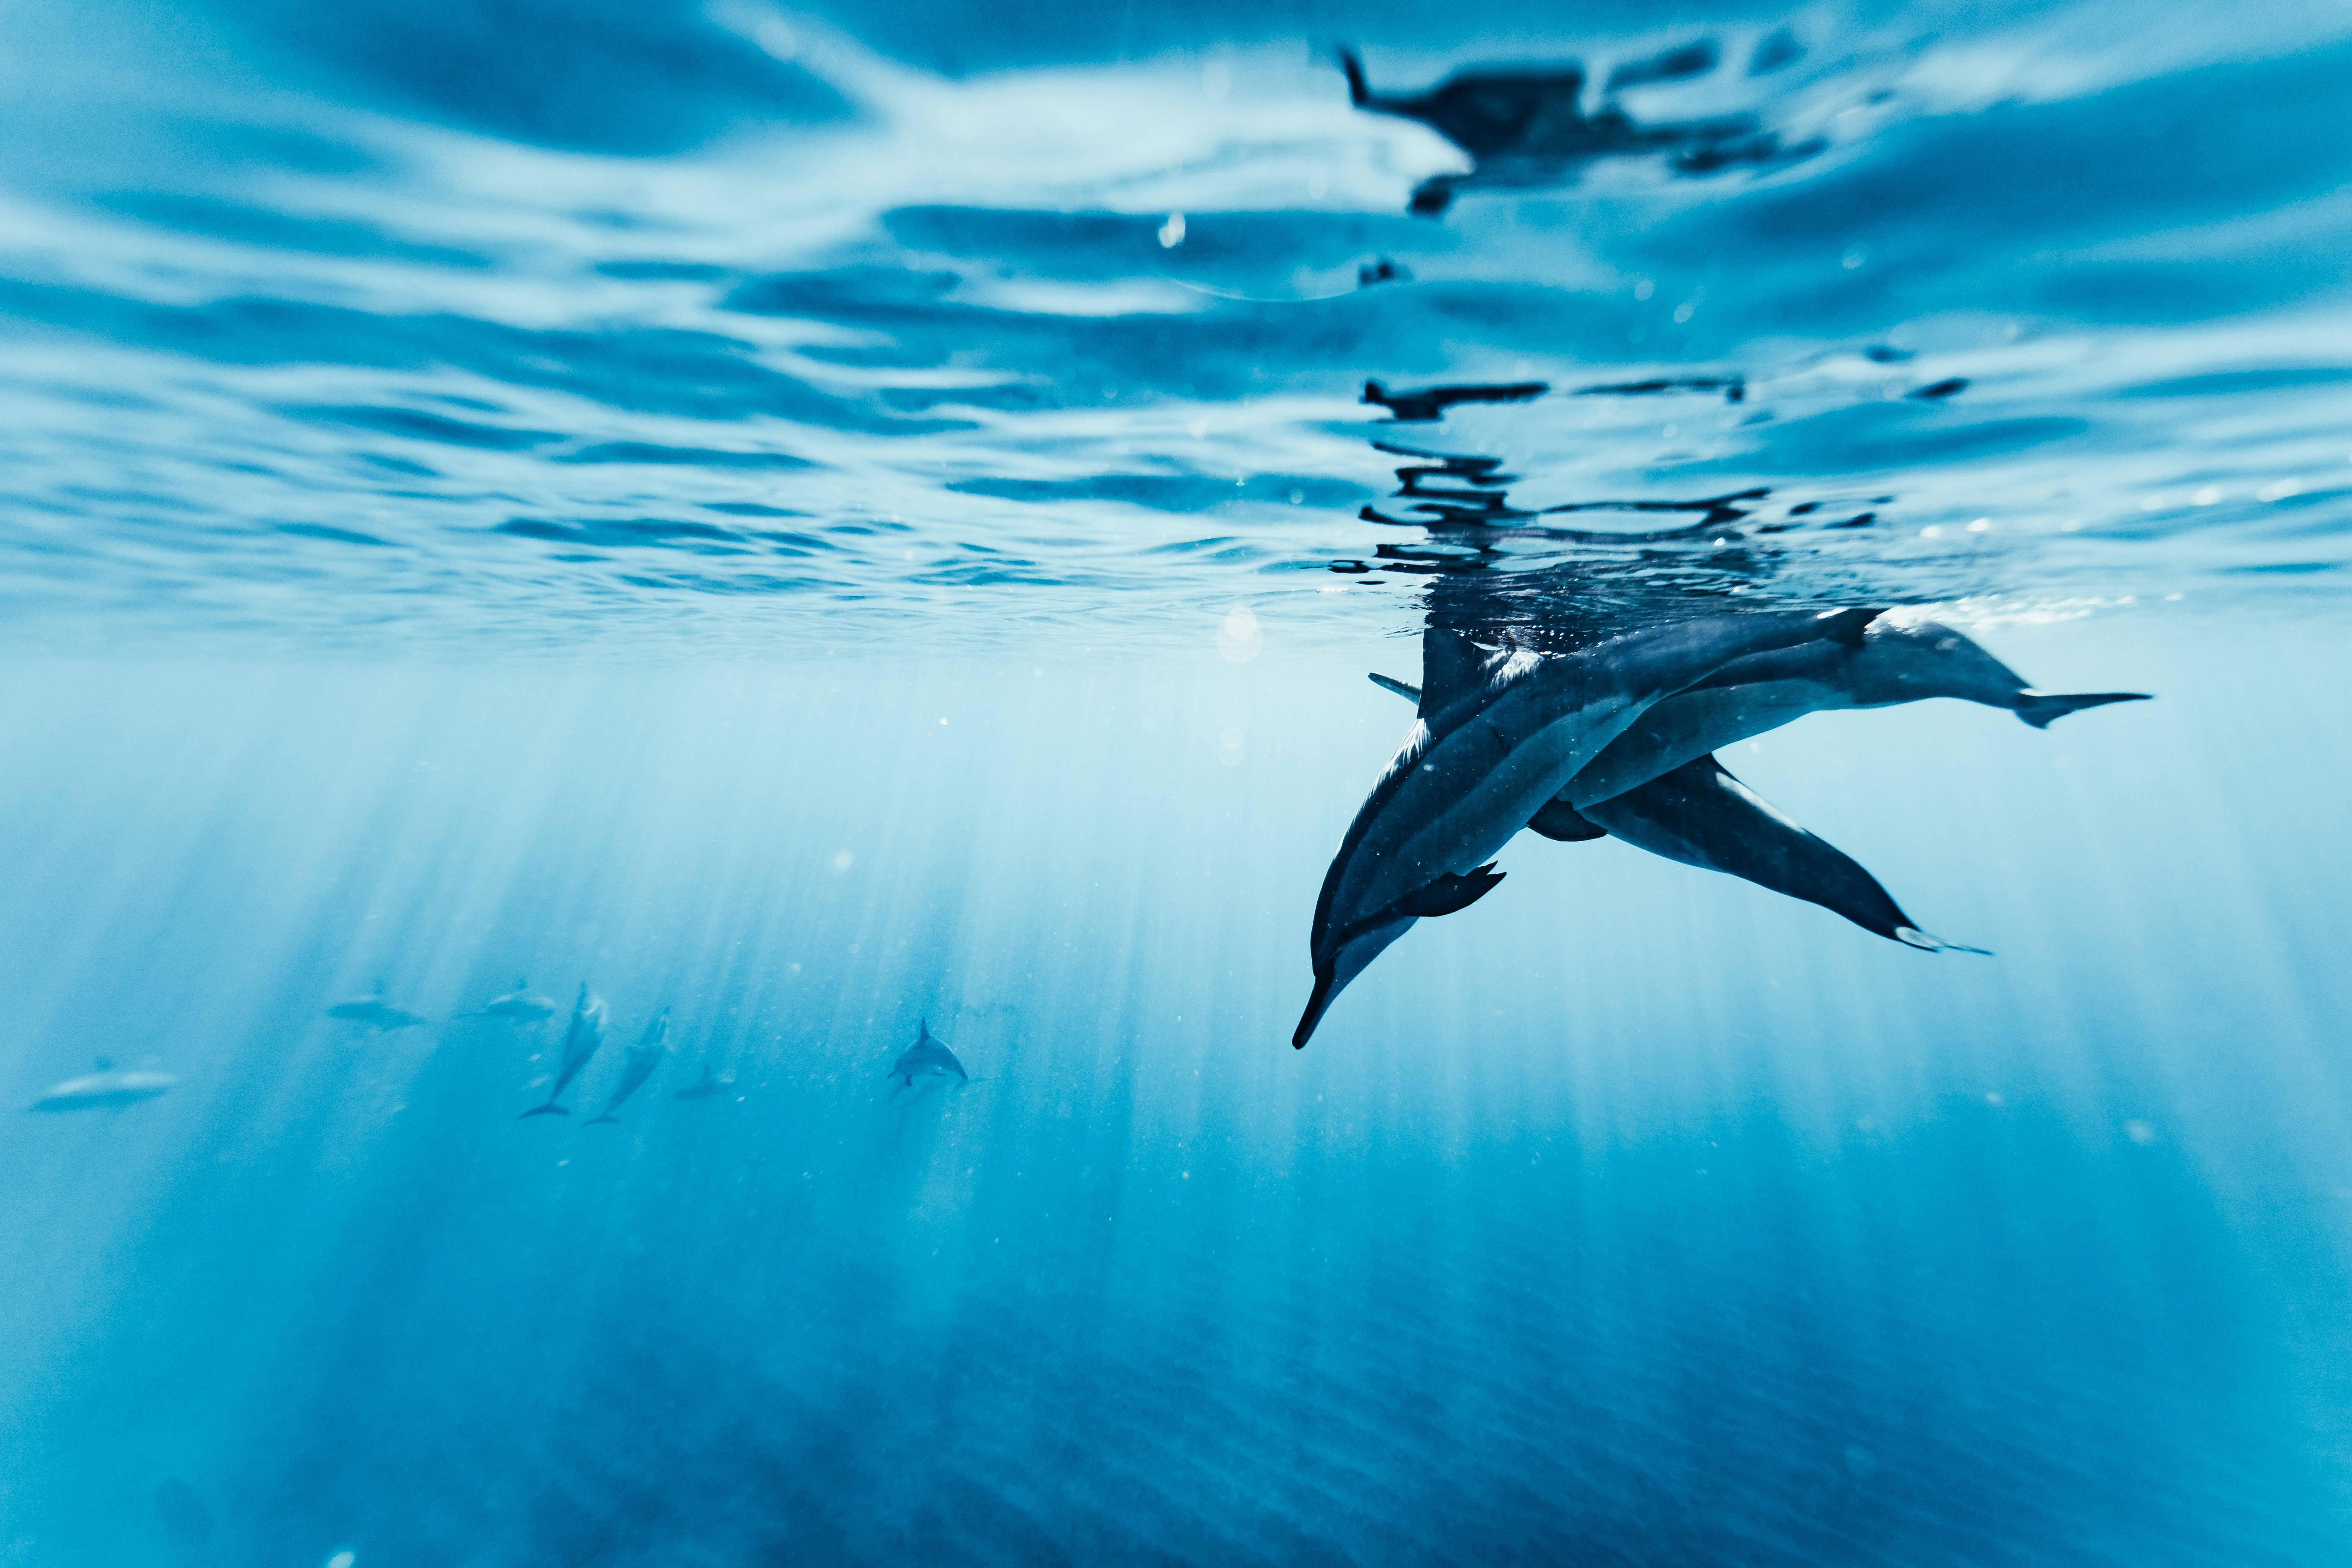dolphin: (1288, 595, 1902, 1052), (1365, 663, 1995, 964), (1446, 607, 2154, 814), (516, 968, 611, 1125), (584, 999, 679, 1130), (882, 1017, 984, 1092)
